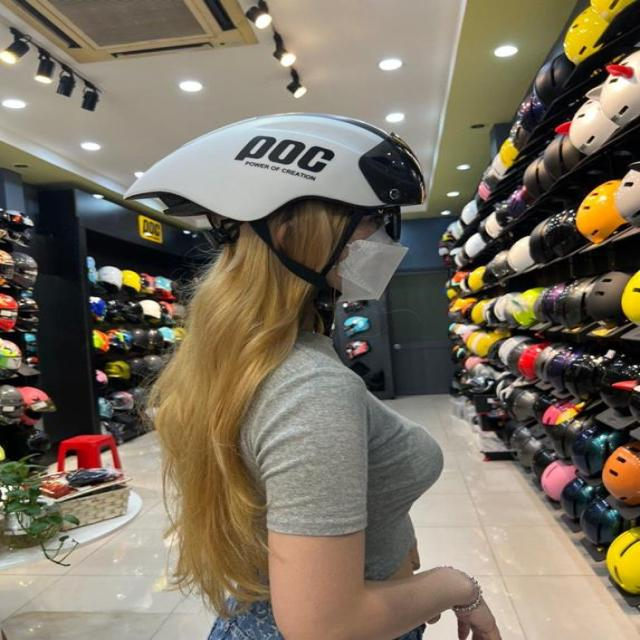Helmet: (114, 95, 437, 324)
